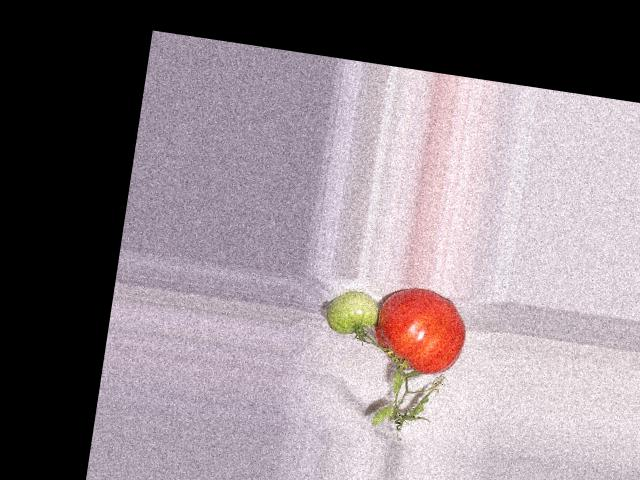tomato: (368, 283, 471, 379)
